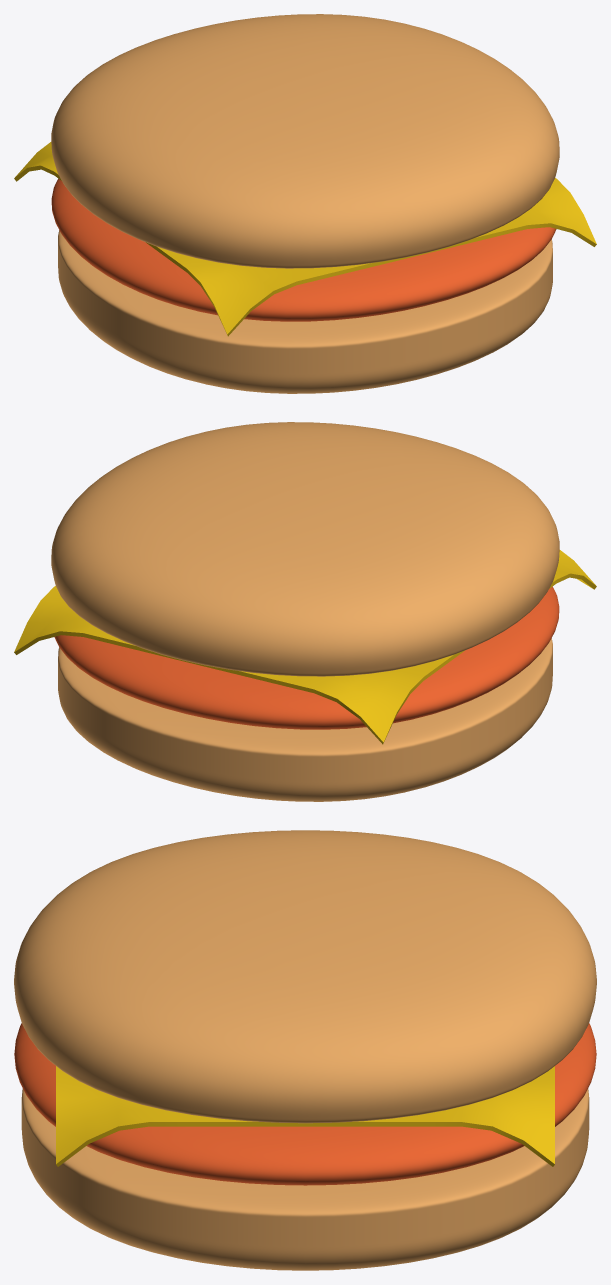
File: hamburger.glb
The picture shows the model from 3 angles, top to bottom: view 1: azimuth 30°, elevation 25°; view 2: azimuth 150°, elevation 25°; view 3: azimuth 270°, elevation 25°; orthographic projection. The views are drawn at different scales.
Visible parts, largest first — view 1: Cube.002, Cube, Cube.001, Plane; view 2: Cube.002, Cube, Cube.001, Plane; view 3: Cube.002, Cube, Cube.001, Plane.
Boxes of the visible parts, <box> form: Cube.002: <box>51,14,559,268</box>; Cube: <box>58,230,552,393</box>; Cube.001: <box>51,178,556,321</box>; Plane: <box>14,142,596,336</box>; Cube.002: <box>51,422,559,676</box>; Cube: <box>58,638,552,801</box>; Cube.001: <box>54,586,559,729</box>; Plane: <box>14,550,596,744</box>; Cube.002: <box>14,830,596,1123</box>; Cube: <box>21,1088,589,1270</box>; Cube.001: <box>14,1023,596,1185</box>; Plane: <box>56,1066,554,1166</box>.
Size of the model in its own units: 9.25 by 4.77 by 9.25.
